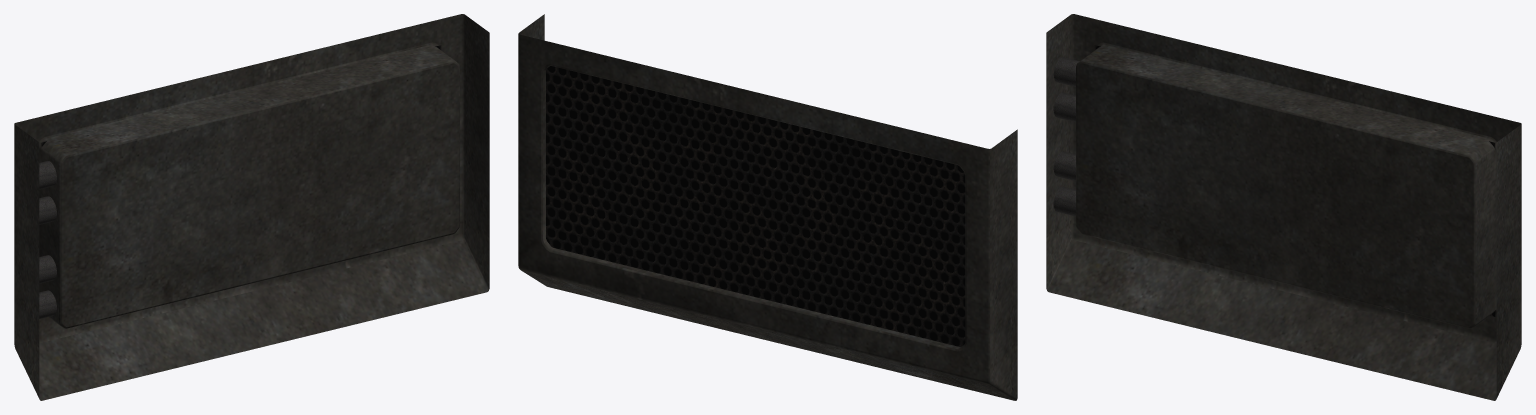
The model's file is wall_peace_1.obj.
3 renders of one model, left to right at view 1: azimuth 30°, elevation 25°; view 2: azimuth 150°, elevation 25°; view 3: azimuth 330°, elevation 25°, orthographic. The views are drawn at different scales.
Parts seen in each view (by area): view 1: wall_peace_1; view 2: wall_peace_1; view 3: wall_peace_1.
Part boxes in pixels (box(x1,y1,x2,y2)): wall_peace_1: box(14, 14, 489, 400); wall_peace_1: box(518, 14, 1017, 400); wall_peace_1: box(1046, 14, 1521, 400).
Size of the model in its own units: 4 by 2.2 by 0.4.
